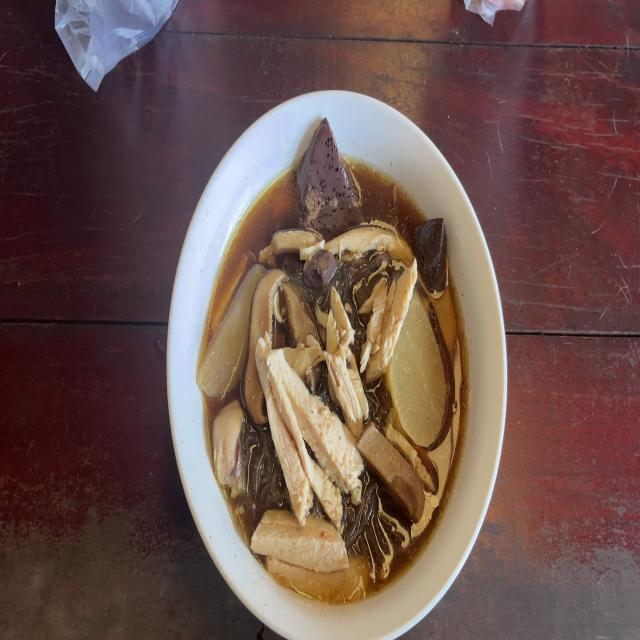boiled_chicken_blood_jelly: (302, 123, 363, 229), (418, 208, 448, 298), (302, 250, 335, 289)
chicken_shredded: (253, 339, 360, 516), (254, 506, 364, 598), (324, 290, 369, 428), (363, 264, 420, 370), (262, 220, 406, 260), (212, 402, 246, 487)
daikon_radish: (197, 259, 249, 385), (403, 317, 442, 434)
noodle: (212, 160, 467, 589)
